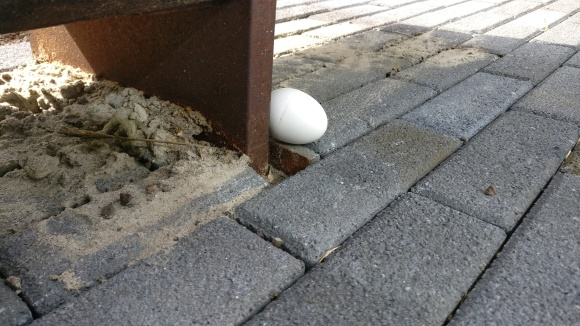egg: (267, 87, 329, 145)
